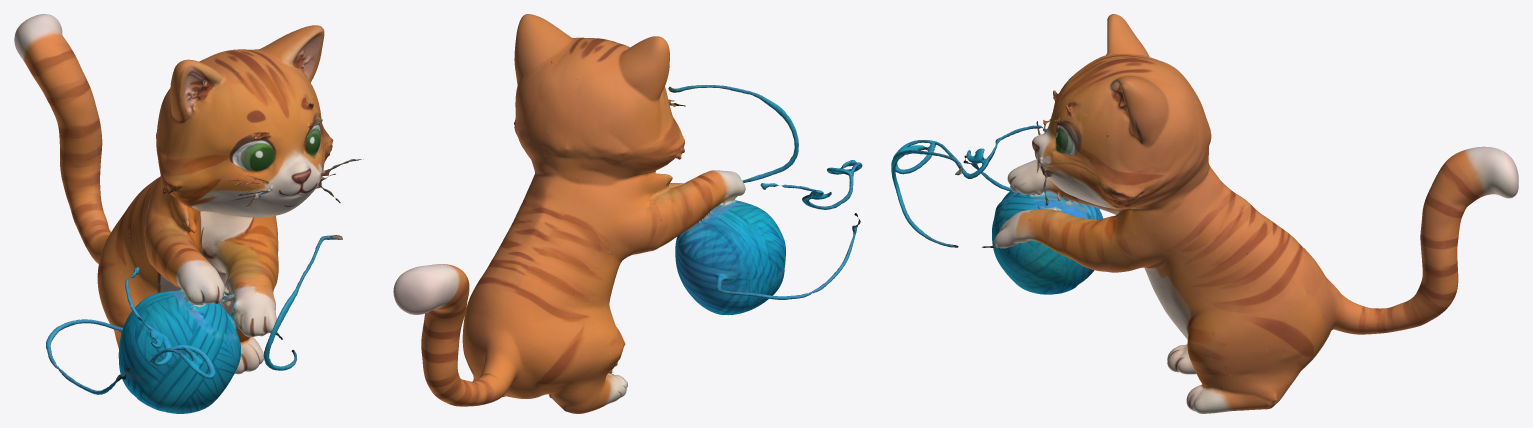
File: pet_cat_wool.glb
3 views of the same model, side by side, from view 1: azimuth 30°, elevation 25°; view 2: azimuth 150°, elevation 25°; view 3: azimuth 270°, elevation 25° (orthographic). The views are drawn at different scales.
Visible parts, largest first — view 1: Mesh_0.032; view 2: Mesh_0.032; view 3: Mesh_0.032.
Boxes of the visible parts, x1,y1,x2,y2 form: Mesh_0.032: (14, 14, 363, 413); Mesh_0.032: (393, 14, 862, 413); Mesh_0.032: (891, 14, 1518, 413).
Bounding box in the file's own units: 1.04 × 1.23 × 2.
Materials: 1 (1 with a texture image).
